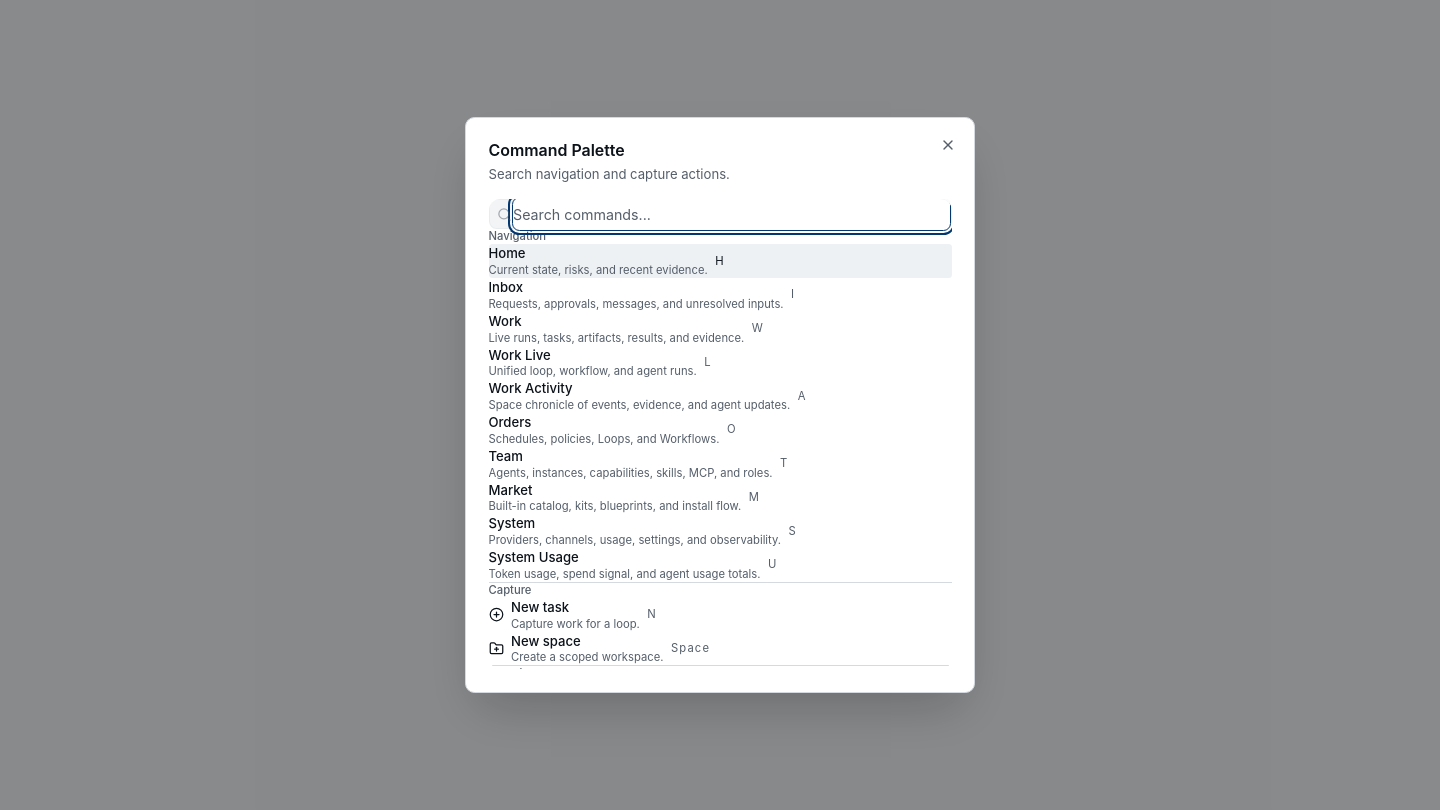
Test: creates a NullTickets task from capture mode
This screenshot has width=1440, height=810.
Click the text "New task". click: click(540, 607)
box: [511,599,569,615]
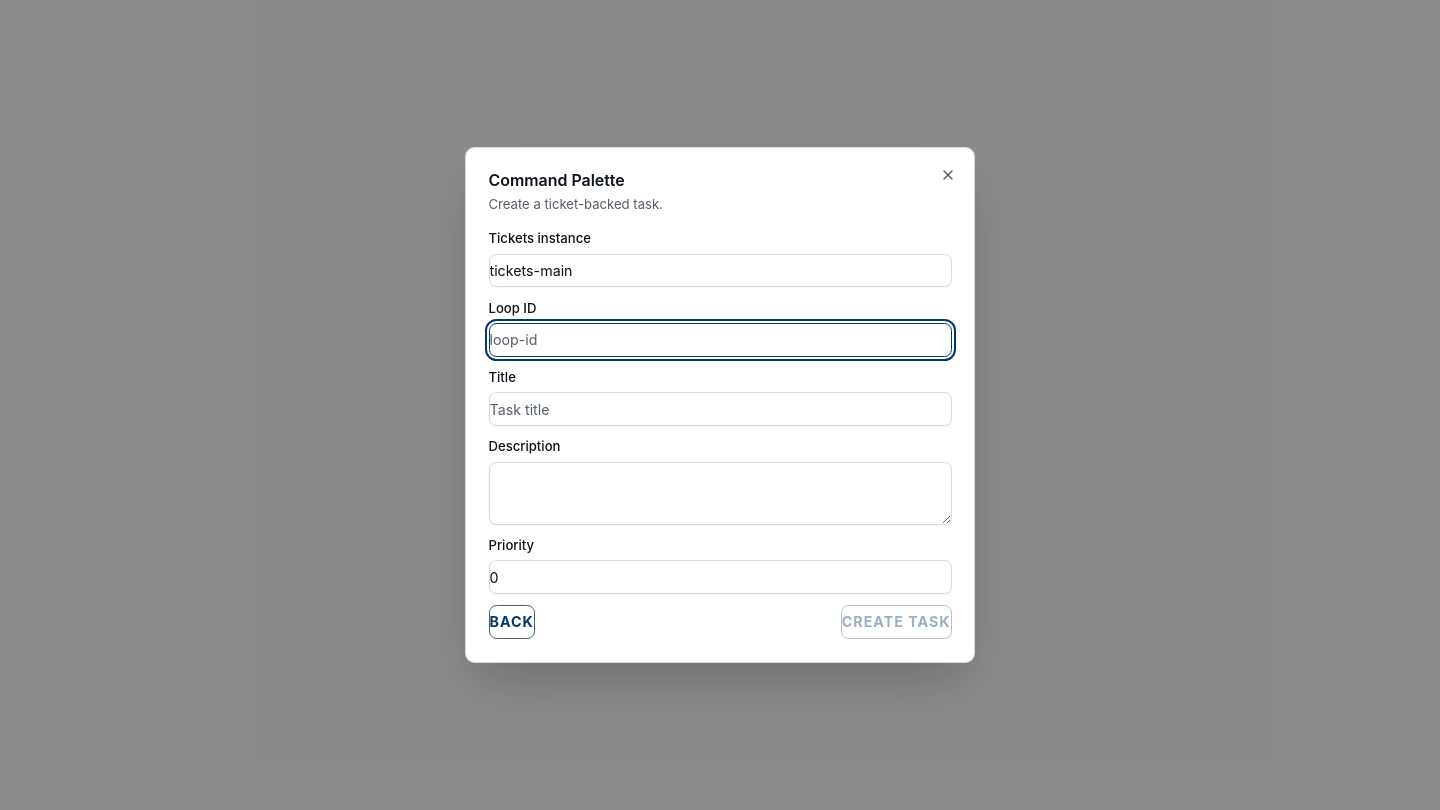
Type "loop-ops" into the field labelled "Loop ID". click: (720, 340)
box: [488,323,952,357]
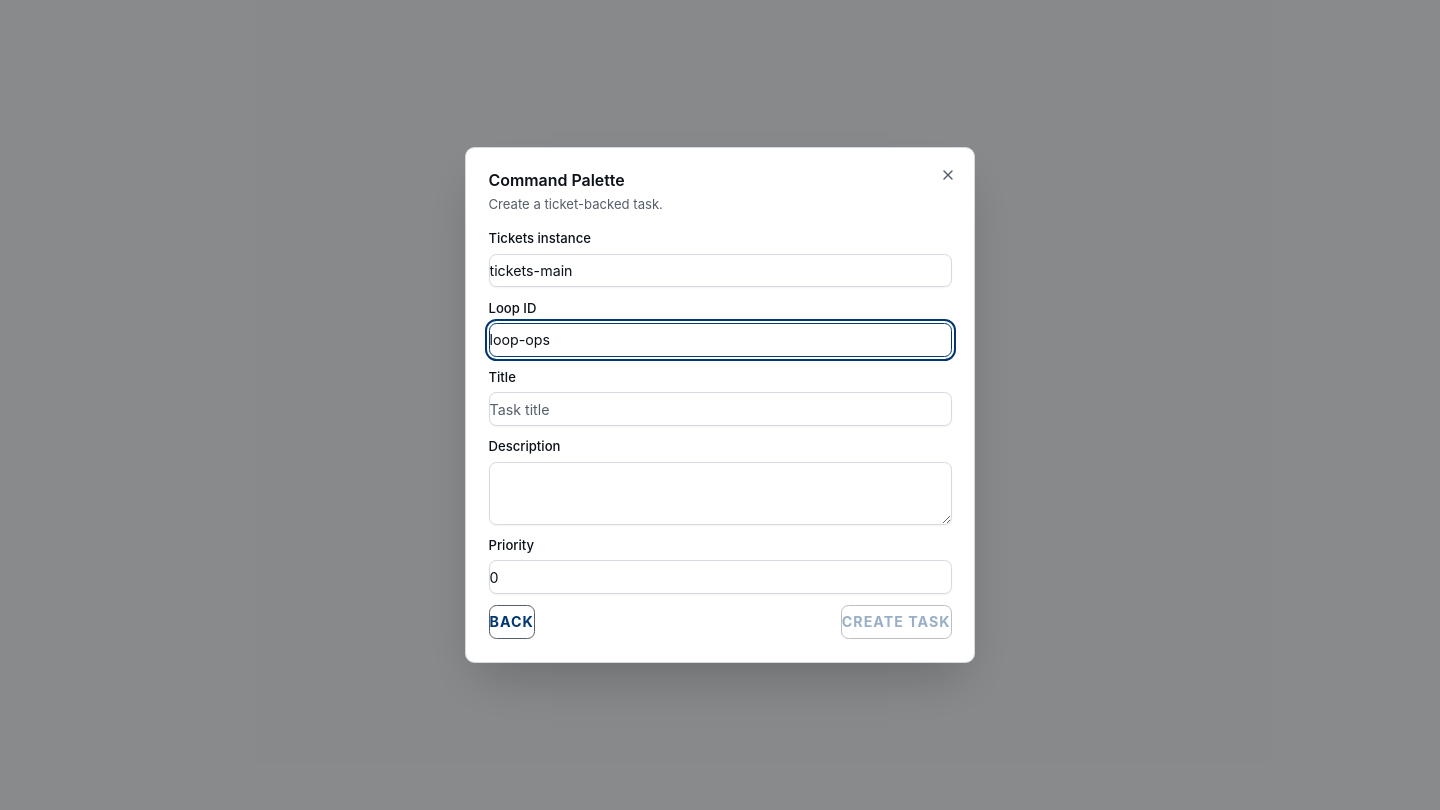
Type "Review escalation" into the field labelled "Title". click: (720, 409)
box: [488,392,952,426]
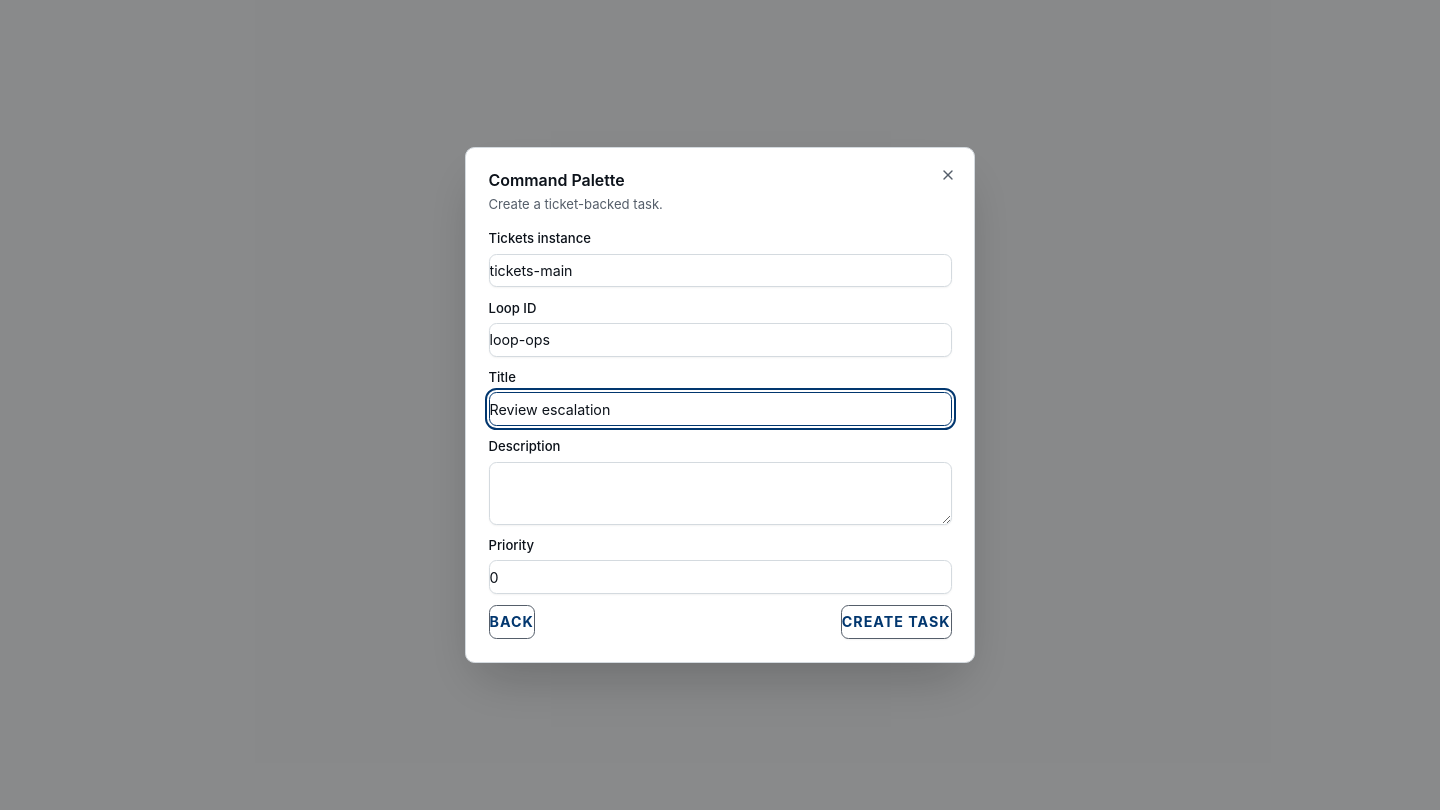
Type "Check failed order evidence." into the text box labelled "Description". click: (720, 493)
box: [488,462,952,525]
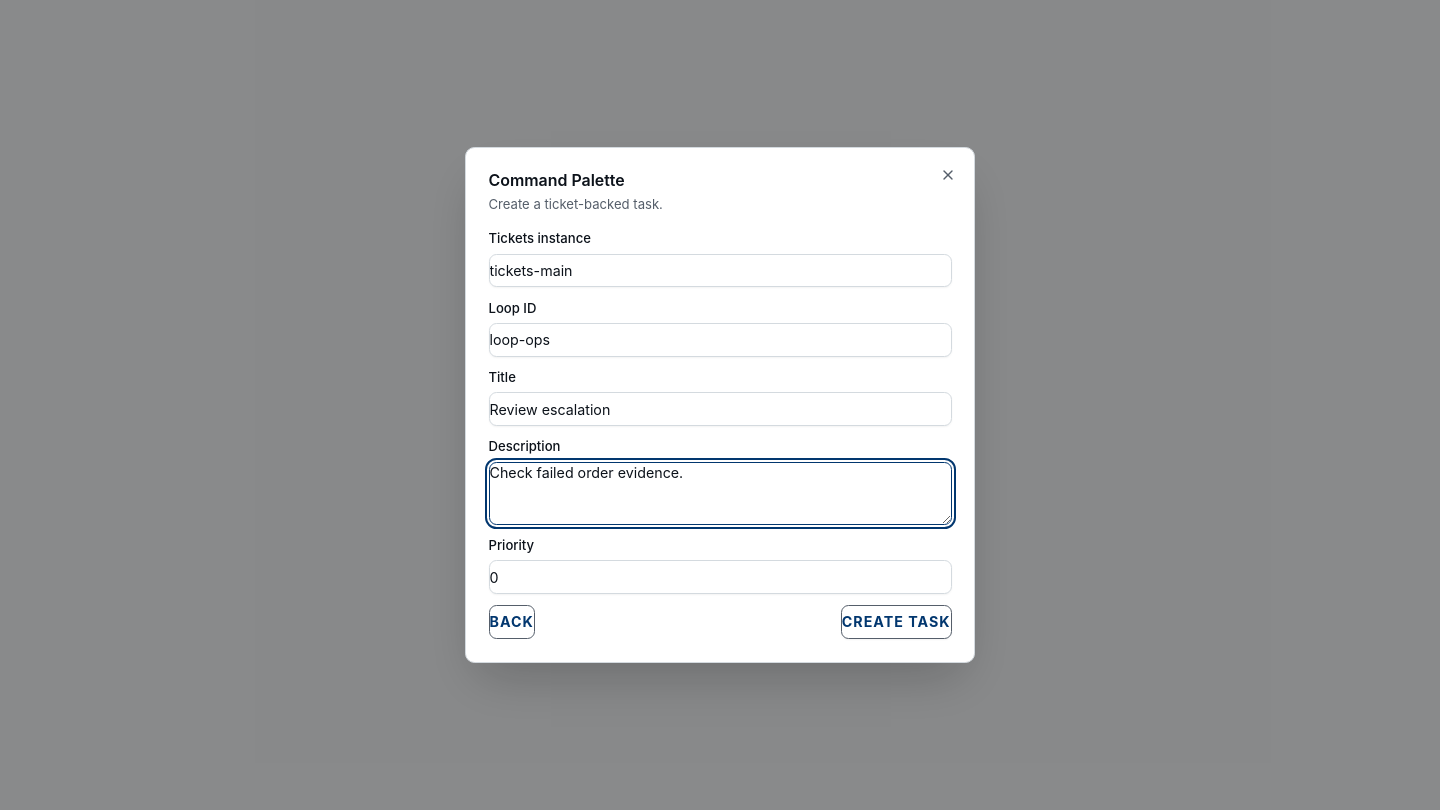
Replace the text in the field labelled "Priority" with "2". click: (720, 577)
box: [488,560,952,594]
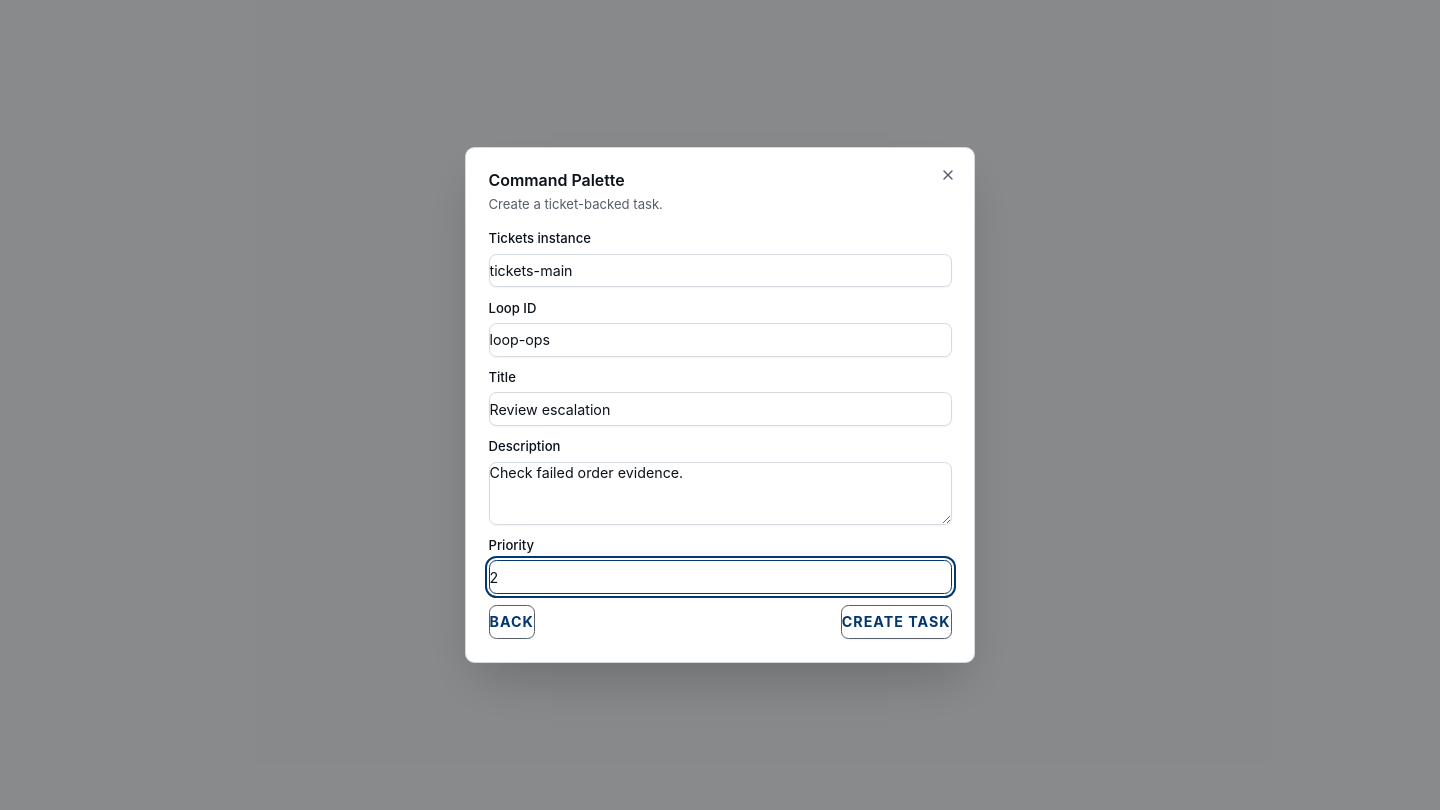
Click the button "Create task". click: click(896, 622)
box: [841,606,952,639]
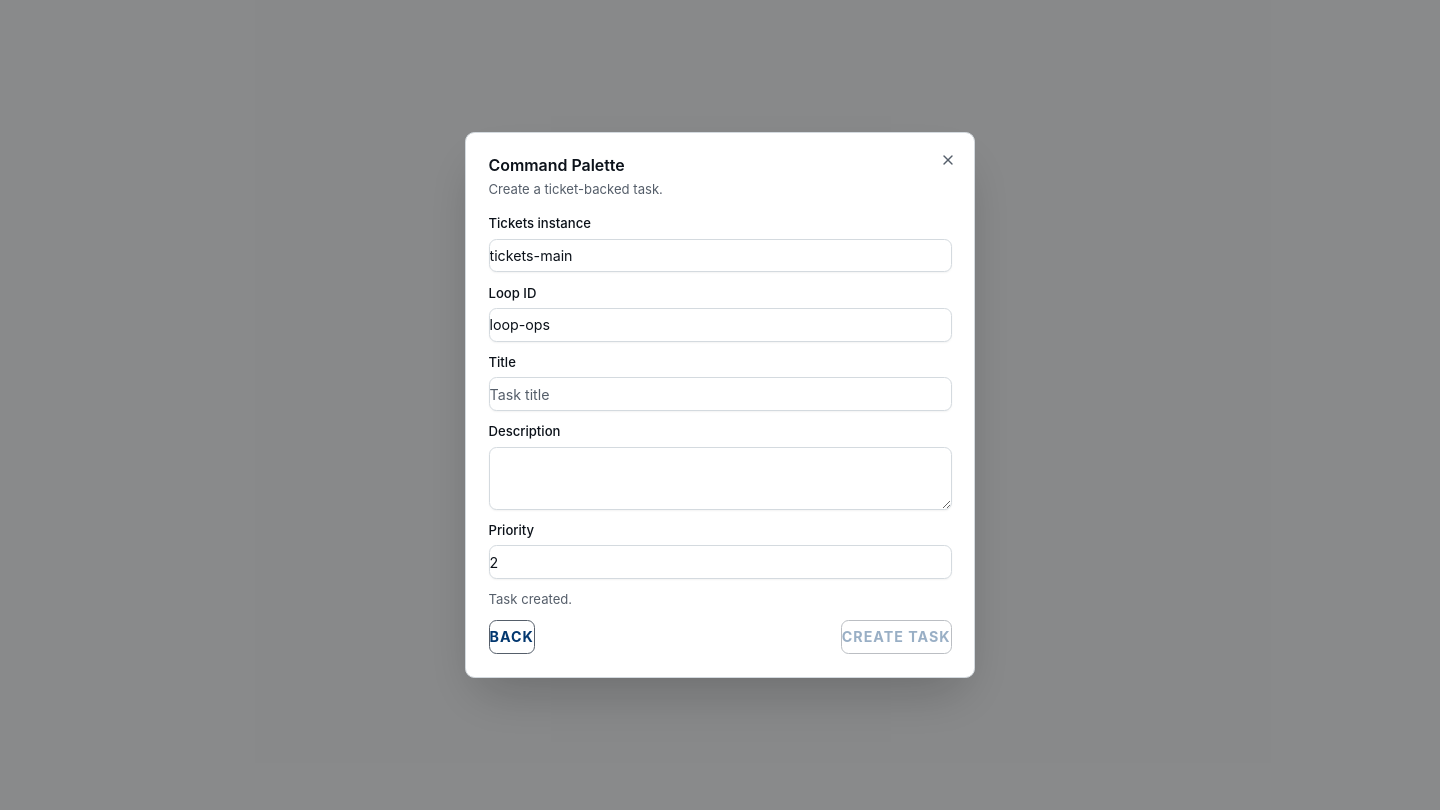
Now the message reads "Task created.", box [488,592,572,608]
